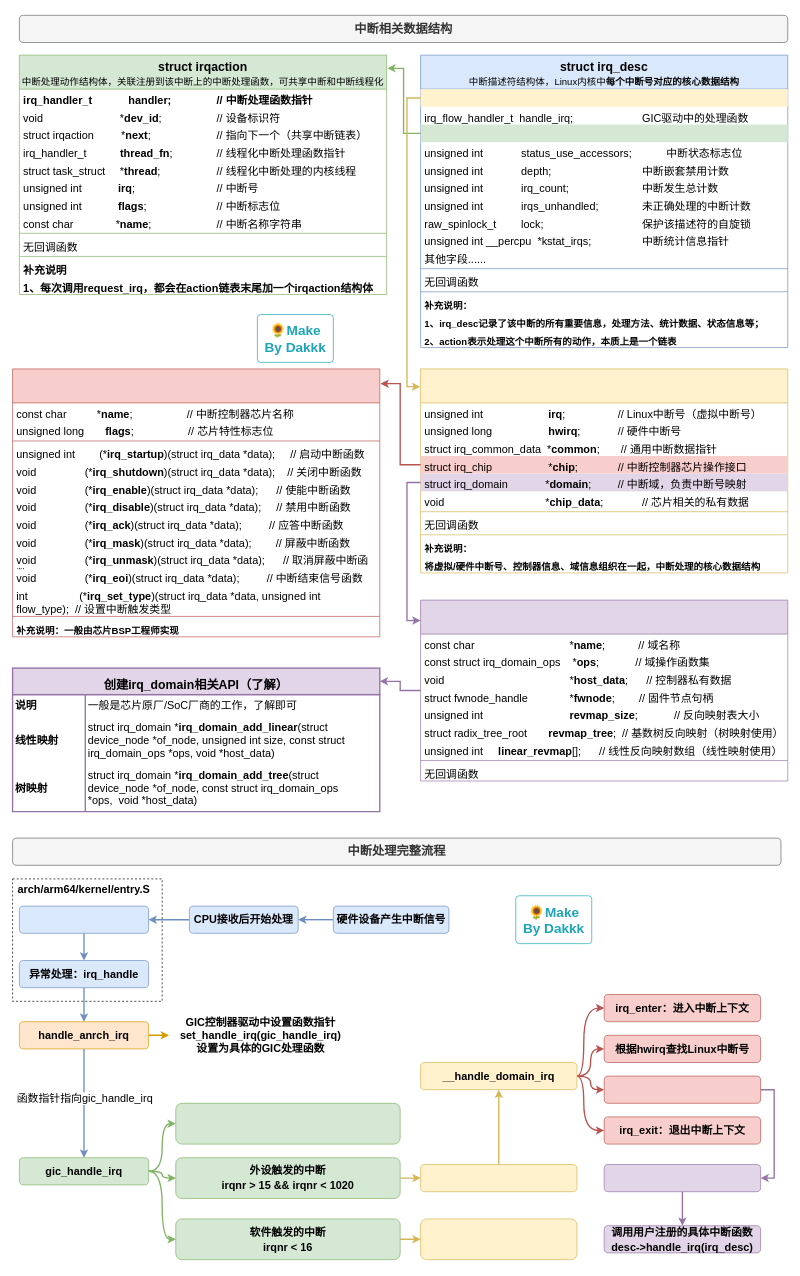
This 800x1276 diagram has some shape labels left out. The box of each missing label's shape, as (x1, y1, x2, y2) in pixels:
handle_domain_irq: (420, 1164, 577, 1192)
struct irq_chip 中断控制器抽象结构体，定义了操作特定中断控制器硬件的函数接口集合: (12, 368, 380, 637)
struct irq_data irq_data ; 中断基础数据: (420, 89, 787, 106)
struct irq_data 中断数据结构体，中断子系统和硬件中断控制器交互使用的: (420, 368, 788, 573)
struct irq_domain 中断域结构体，负责硬件中断号与Linux虚拟中断号之间的映射转换: (420, 599, 788, 781)
struct irqaction * action ; 中断处理函数 链表头: (420, 124, 787, 142)
处理器核与核之间通信 handle_IPI: (420, 1218, 577, 1260)
异常向量表：vector_irq: (19, 905, 149, 933)
获取中断描述符并处理 generic_handle_irq_desc: (604, 1164, 761, 1192)
读取GIC寄存器并获取hwirq中断号 irqnr = irqstat & GICC_IAR_INT_ID_MASK: (175, 1103, 400, 1144)
通用中断处理入口 generic_handle_irq: (604, 1075, 761, 1103)
